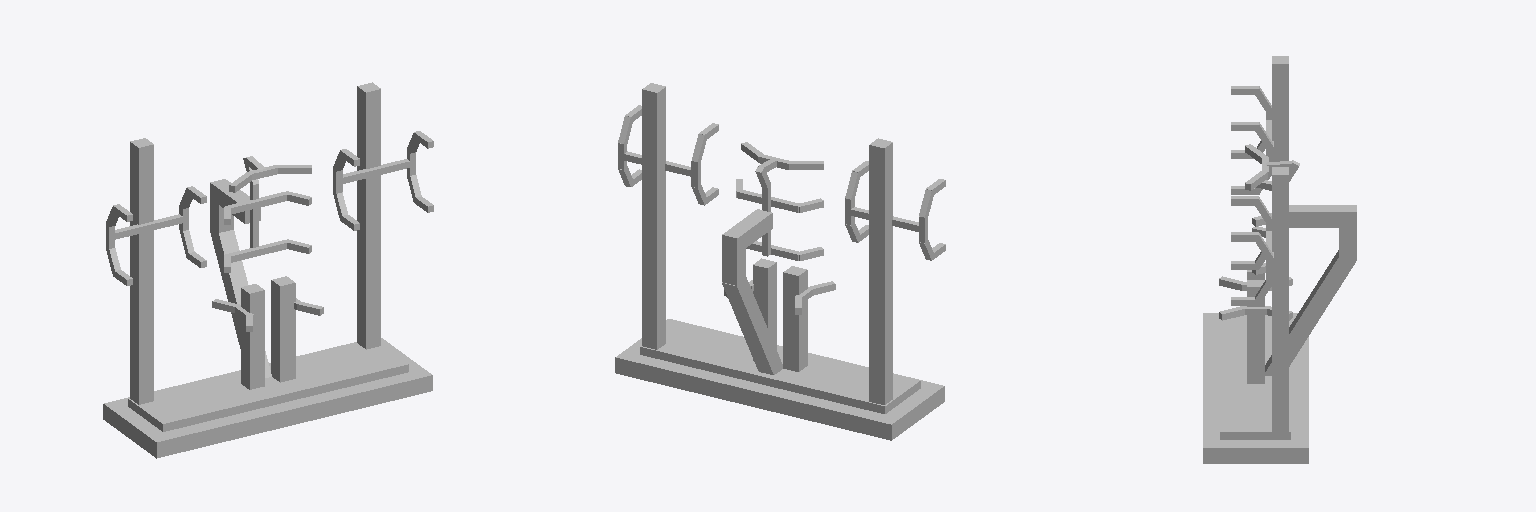
File: UnitStand.obj
3 views of the same model, side by side, from view 1: azimuth 30°, elevation 25°; view 2: azimuth 150°, elevation 25°; view 3: azimuth 270°, elevation 25° (orthographic).
Visible parts, largest first — view 1: UnitStandBase_Cube, UnitStandBase2_Cube.001, RightArmSupport1_Cube.002, LeftArmSupport1_Cube.003, LeftLegSupport_Cube.026, RightLegSupport_Cube.027, TorsoSupport1_Cube.036, TorsoSupport3_Cube.038, LeftArmSupport2_Cube.004, RightArmSupport2_Cube.005, ChestSupport1_Cube.041, WaistSupport1_Cube.040; view 2: UnitStandBase2_Cube.001, UnitStandBase_Cube, LeftArmSupport1_Cube.003, RightArmSupport1_Cube.002, TorsoSupport1_Cube.036, RightLegSupport_Cube.027, LeftLegSupport_Cube.026, TorsoSupport3_Cube.038, TorsoSupport2_Cube.037; view 3: UnitStandBase2_Cube.001, UnitStandBase_Cube, LeftArmSupport1_Cube.003, TorsoSupport1_Cube.036, RightArmSupport1_Cube.002, TorsoSupport3_Cube.038, LeftLegSupport_Cube.026, TorsoSupport2_Cube.037.
Part boxes in pixels (bbox=[...]): UnitStandBase_Cube: bbox=[128, 342, 408, 431]; UnitStandBase2_Cube.001: bbox=[103, 338, 432, 458]; RightArmSupport1_Cube.002: bbox=[130, 138, 153, 404]; LeftArmSupport1_Cube.003: bbox=[357, 82, 380, 349]; LeftLegSupport_Cube.026: bbox=[271, 276, 295, 382]; RightLegSupport_Cube.027: bbox=[241, 284, 264, 389]; TorsoSupport1_Cube.036: bbox=[210, 228, 271, 377]; TorsoSupport3_Cube.038: bbox=[210, 179, 260, 223]; LeftArmSupport2_Cube.004: bbox=[333, 159, 415, 185]; RightArmSupport2_Cube.005: bbox=[106, 214, 188, 239]; ChestSupport1_Cube.041: bbox=[225, 191, 288, 214]; WaistSupport1_Cube.040: bbox=[225, 240, 287, 262]; UnitStandBase2_Cube.001: bbox=[615, 319, 944, 440]; UnitStandBase_Cube: bbox=[640, 321, 920, 413]; LeftArmSupport1_Cube.003: bbox=[642, 83, 665, 349]; RightArmSupport1_Cube.002: bbox=[869, 138, 892, 404]; TorsoSupport1_Cube.036: bbox=[722, 273, 782, 374]; RightLegSupport_Cube.027: bbox=[783, 266, 807, 371]; LeftLegSupport_Cube.026: bbox=[753, 258, 776, 360]; TorsoSupport3_Cube.038: bbox=[722, 209, 772, 254]; TorsoSupport2_Cube.037: bbox=[722, 249, 745, 286]; UnitStandBase2_Cube.001: bbox=[1203, 313, 1308, 463]; UnitStandBase_Cube: bbox=[1220, 315, 1290, 439]; LeftArmSupport1_Cube.003: bbox=[1272, 167, 1288, 431]; TorsoSupport1_Cube.036: bbox=[1265, 250, 1355, 375]; RightArmSupport1_Cube.002: bbox=[1272, 56, 1288, 161]; TorsoSupport3_Cube.038: bbox=[1289, 205, 1356, 227]; LeftLegSupport_Cube.026: bbox=[1247, 280, 1264, 383]; TorsoSupport2_Cube.037: bbox=[1339, 228, 1356, 260].
Bounding box in the file's own units: 10 × 8.75 × 4.37.